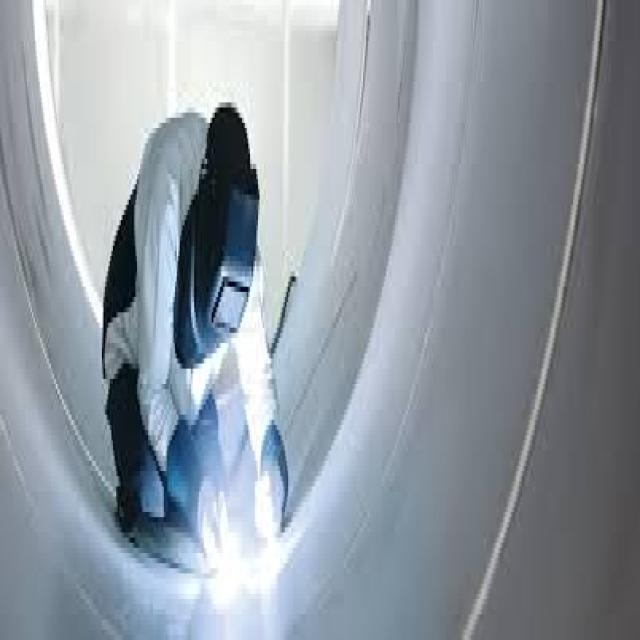welding: (218, 526, 243, 596)
